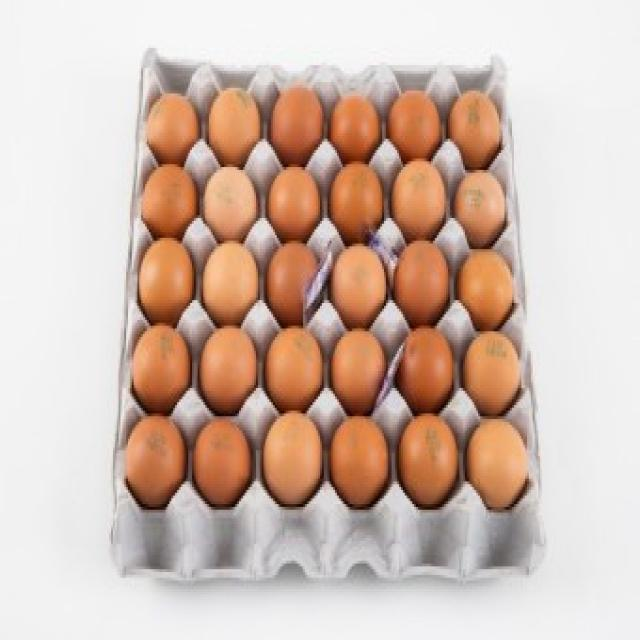eggs: (396, 404, 465, 512), (257, 409, 325, 511), (466, 416, 534, 512), (327, 415, 394, 510), (462, 415, 529, 510), (260, 323, 325, 418), (127, 324, 194, 413), (197, 325, 261, 416), (330, 241, 392, 333), (127, 415, 190, 505), (192, 418, 254, 508), (392, 241, 452, 332), (264, 239, 322, 333), (138, 232, 195, 326), (327, 331, 389, 417), (444, 82, 505, 169), (389, 157, 449, 244), (201, 162, 261, 248), (202, 242, 260, 330), (458, 250, 520, 330), (462, 332, 521, 416), (205, 89, 266, 170), (401, 328, 456, 415), (143, 91, 202, 167), (268, 84, 324, 164), (267, 164, 324, 242), (328, 163, 385, 241), (452, 169, 507, 246), (388, 90, 442, 158), (333, 91, 384, 160)
